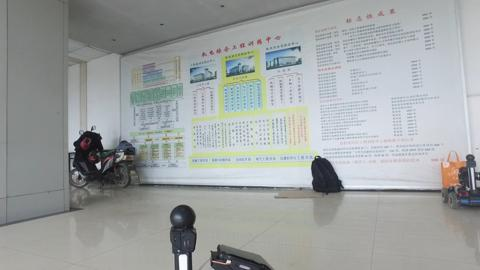bag: (310, 154, 346, 195), (440, 149, 469, 189)
chariot: (440, 153, 479, 210)
